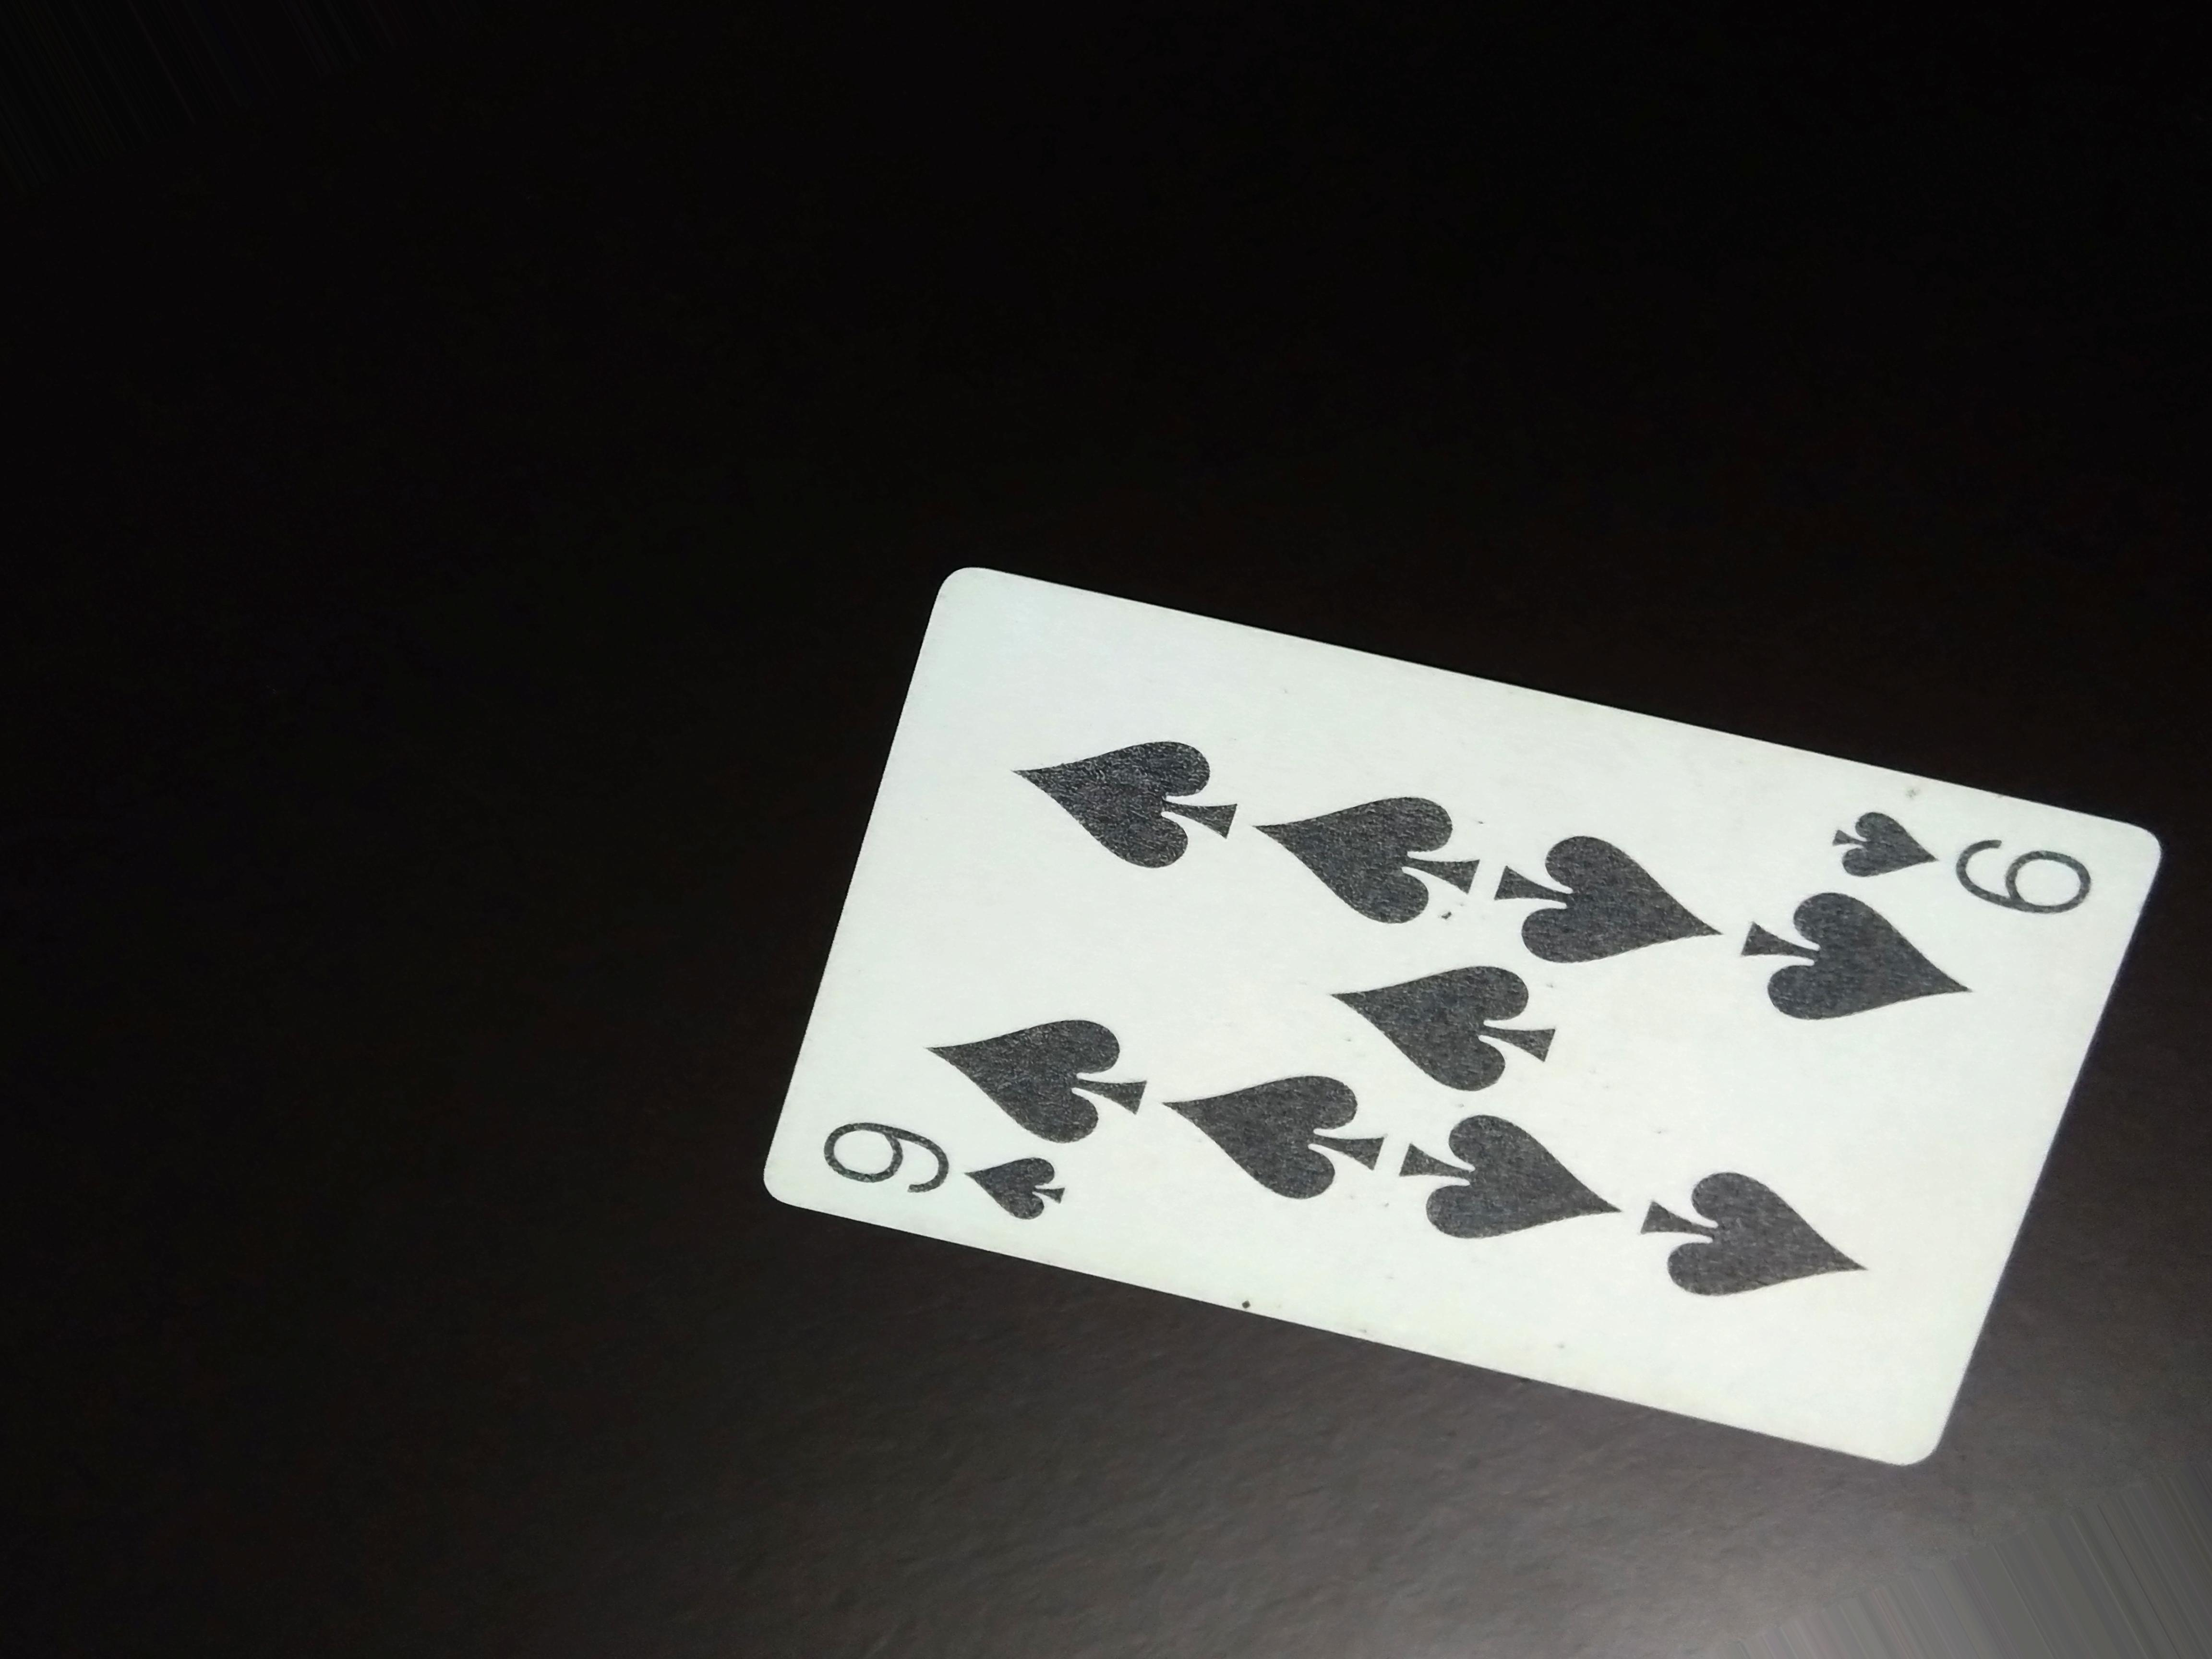9S: (1808, 789, 2120, 931)
